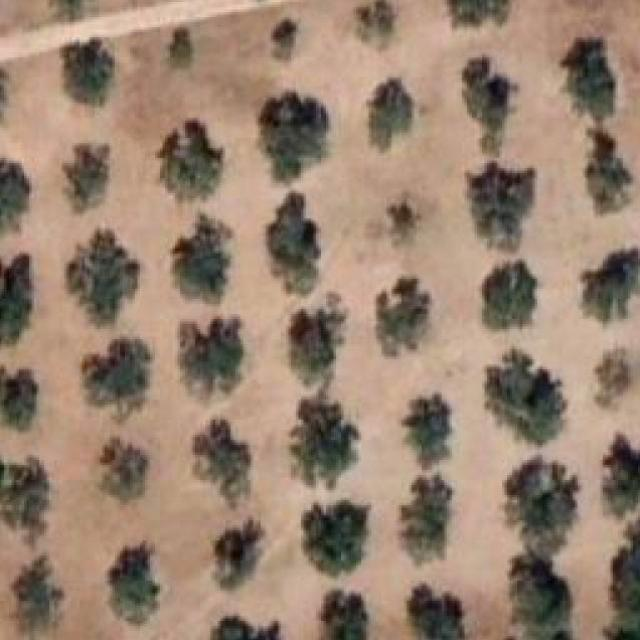Tree: (505, 458, 580, 559), (487, 349, 563, 446), (67, 228, 141, 324), (291, 393, 361, 489), (259, 93, 329, 183), (467, 163, 535, 252), (82, 339, 152, 422), (173, 213, 234, 304), (462, 57, 516, 155), (158, 121, 223, 202), (573, 126, 633, 212), (266, 193, 316, 296), (304, 500, 370, 576), (512, 557, 572, 640), (289, 304, 349, 387), (195, 420, 252, 507), (401, 475, 455, 566), (560, 40, 616, 124), (180, 317, 241, 394), (582, 248, 640, 325), (376, 276, 431, 356), (12, 555, 65, 638), (605, 520, 640, 640), (110, 543, 161, 625), (0, 457, 46, 543), (482, 262, 537, 330), (403, 394, 452, 468), (215, 520, 265, 589), (409, 585, 471, 640), (369, 77, 415, 150), (62, 40, 111, 107), (100, 438, 149, 501), (603, 435, 640, 516), (64, 146, 108, 213), (0, 254, 29, 344), (320, 590, 369, 640), (4, 369, 39, 430), (596, 349, 631, 408), (2, 158, 30, 231), (213, 611, 279, 640), (450, 0, 511, 25), (390, 200, 420, 246), (357, 0, 392, 39), (274, 20, 299, 62), (170, 27, 193, 69), (50, 0, 88, 25)
